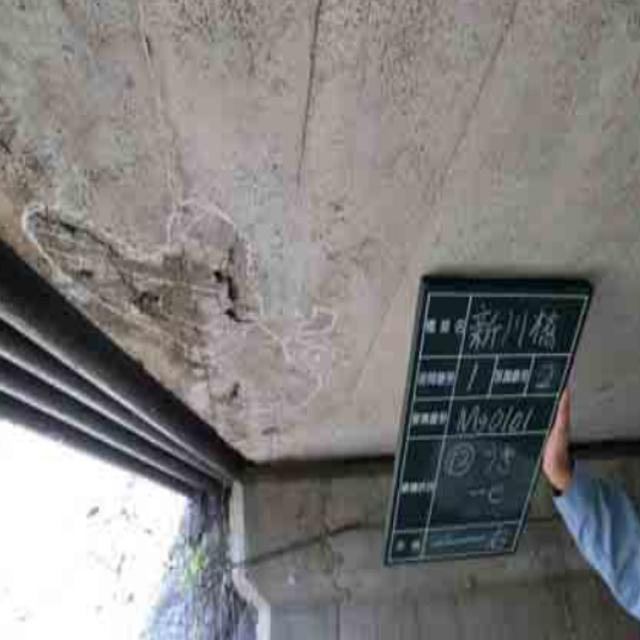spalling: (27, 186, 340, 416)
